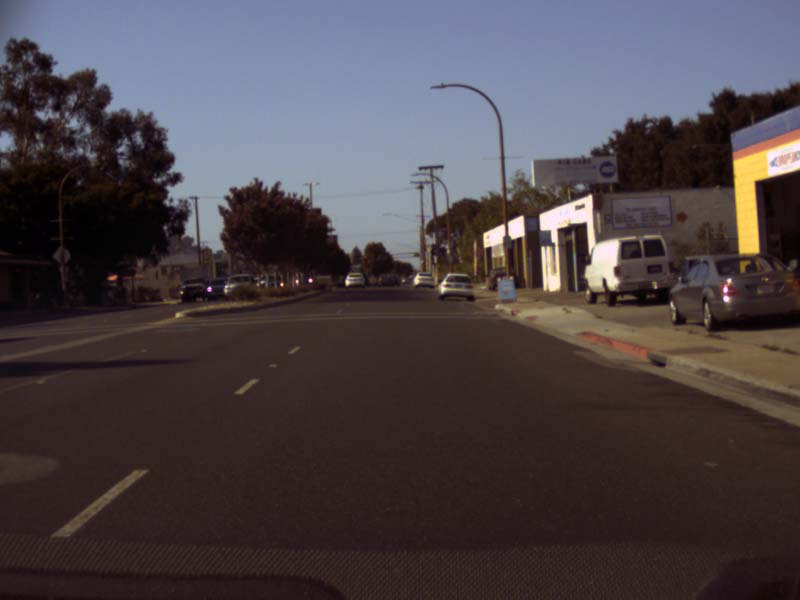Red: (362, 254, 368, 265)
